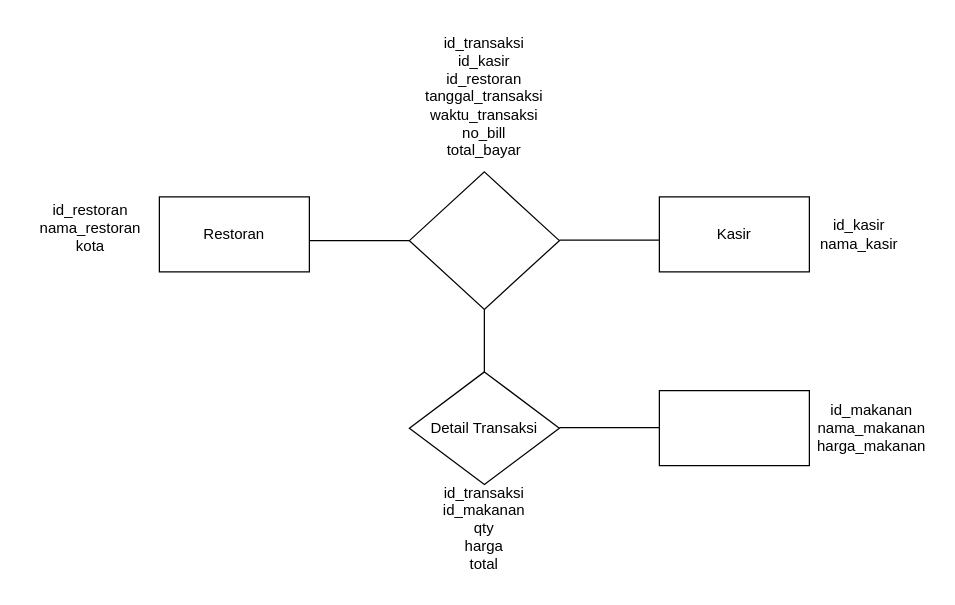
Image size: 955x605. Some labels were removed from this diagram. Here are the shapes that lost their labels. From the top down, the centre of each, then its label:
the point at 483,240: Transaksi
the point at 733,427: Menu Makanan
